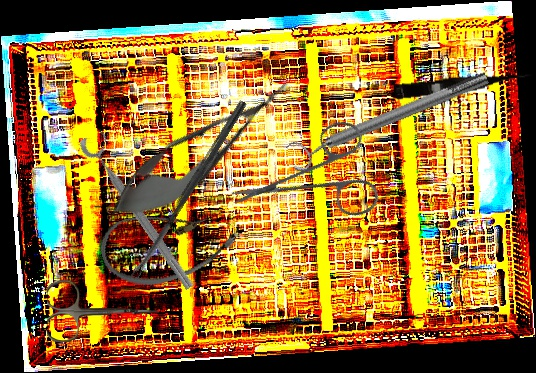Cannula: (93, 188, 243, 299)
Fixation Ring: (284, 63, 494, 175), (76, 126, 207, 294)
Iris Scissors: (227, 88, 406, 267), (46, 280, 160, 344)
Micro Scissor: (95, 60, 308, 241), (393, 67, 535, 103)
Surgical Spoon: (129, 99, 248, 280)
